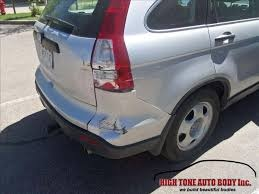Broken-glass: (91, 42, 134, 93)
Dent: (97, 117, 129, 139)
